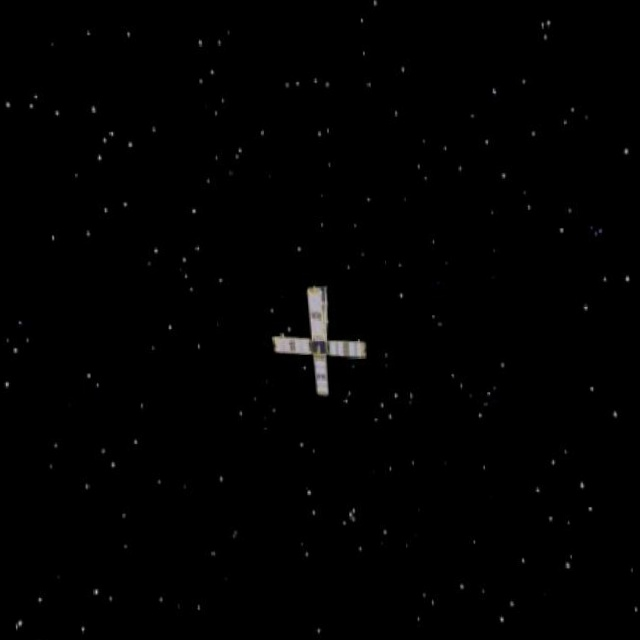satellite: (251, 274, 373, 409)
